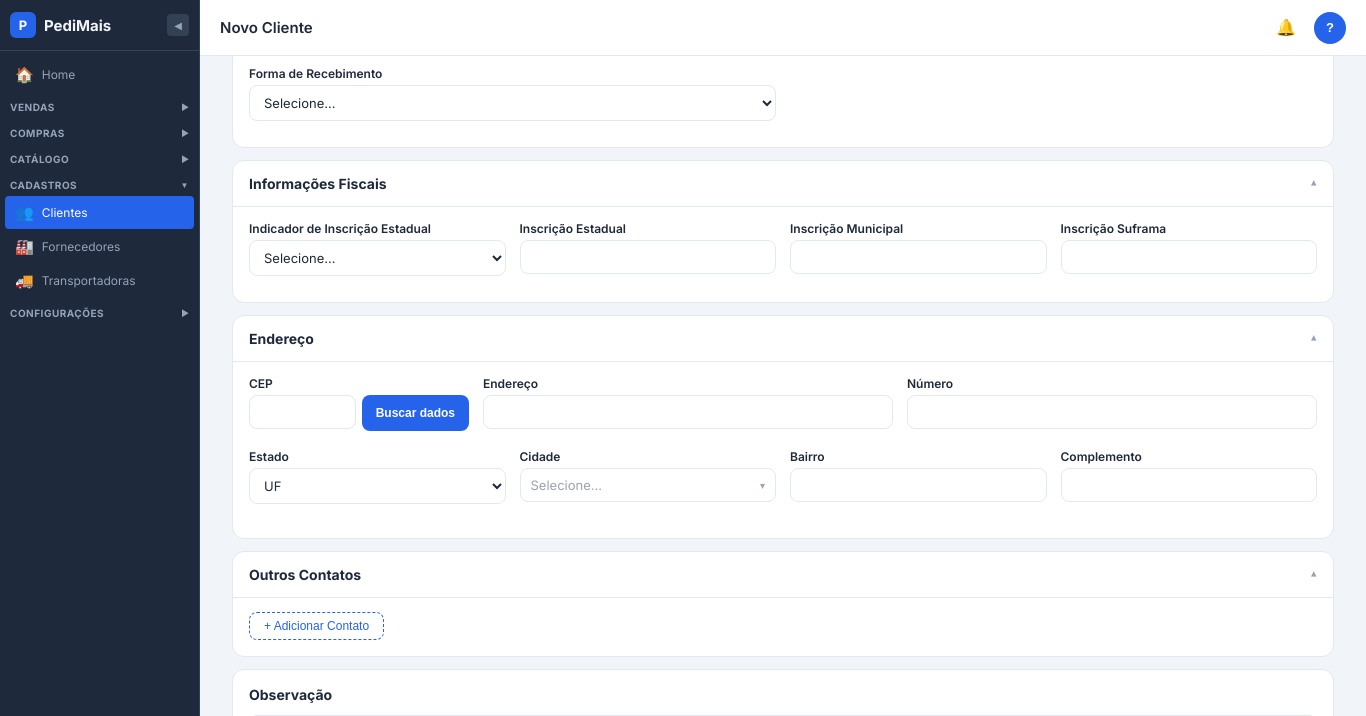
Test: ClienteFormView › fills address fields when CEP lookup succeeds
This screenshot has width=1366, height=716.
(page scrolled)
Type "01310100" into the field with test id "cep".
click(302, 412); type("01310100")  # box [249,395,356,429]
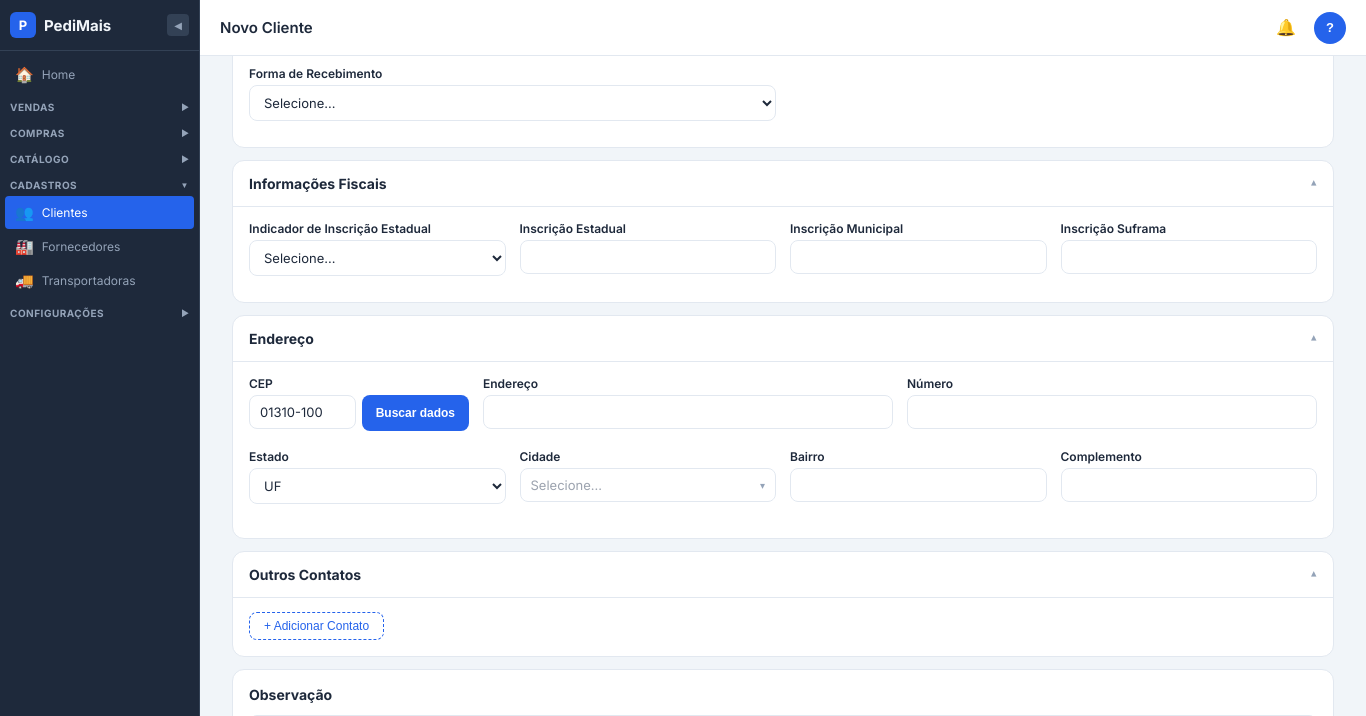
Click the button with test id "buscar-cep".
click(415, 413)  # box [362,395,469,431]
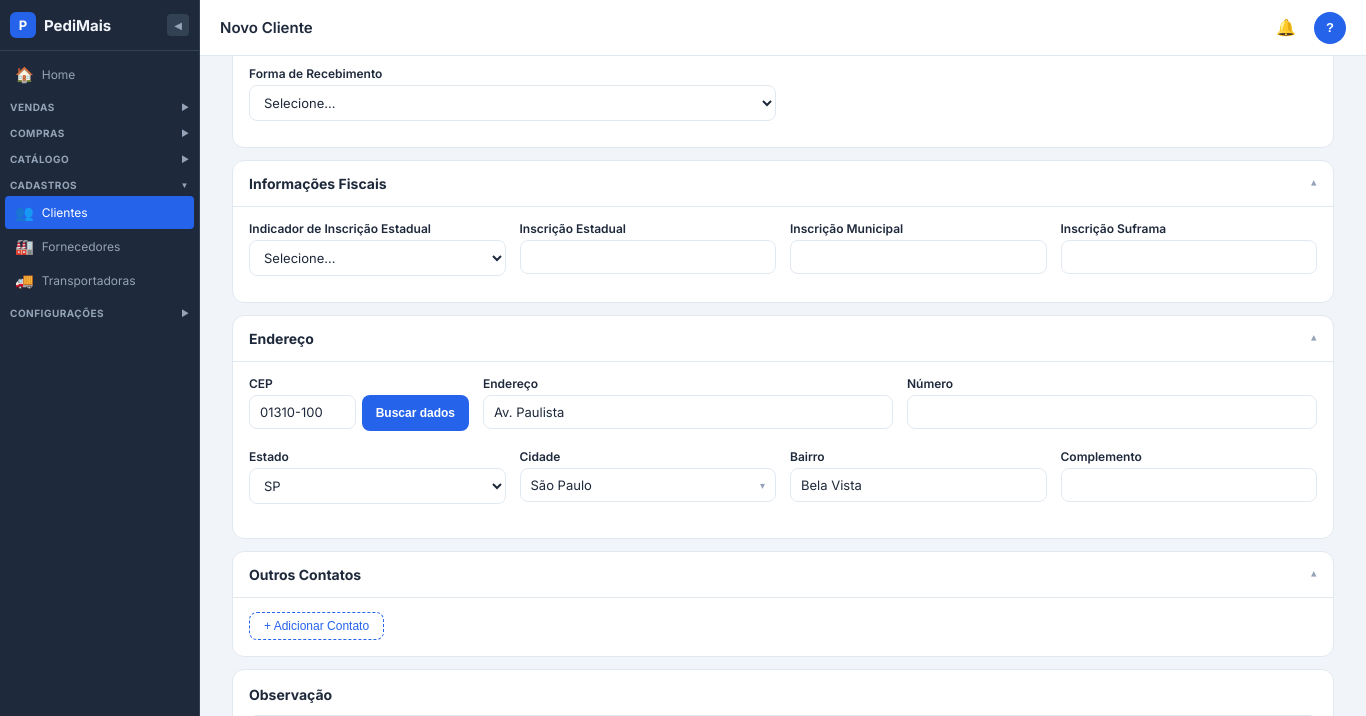
Expected: the field with test id "logradouro" holds "Av. Paulista", [483,395,893,429]
Expected: the element with test id "cidade" shows "São Paulo", [530,477,592,493]
